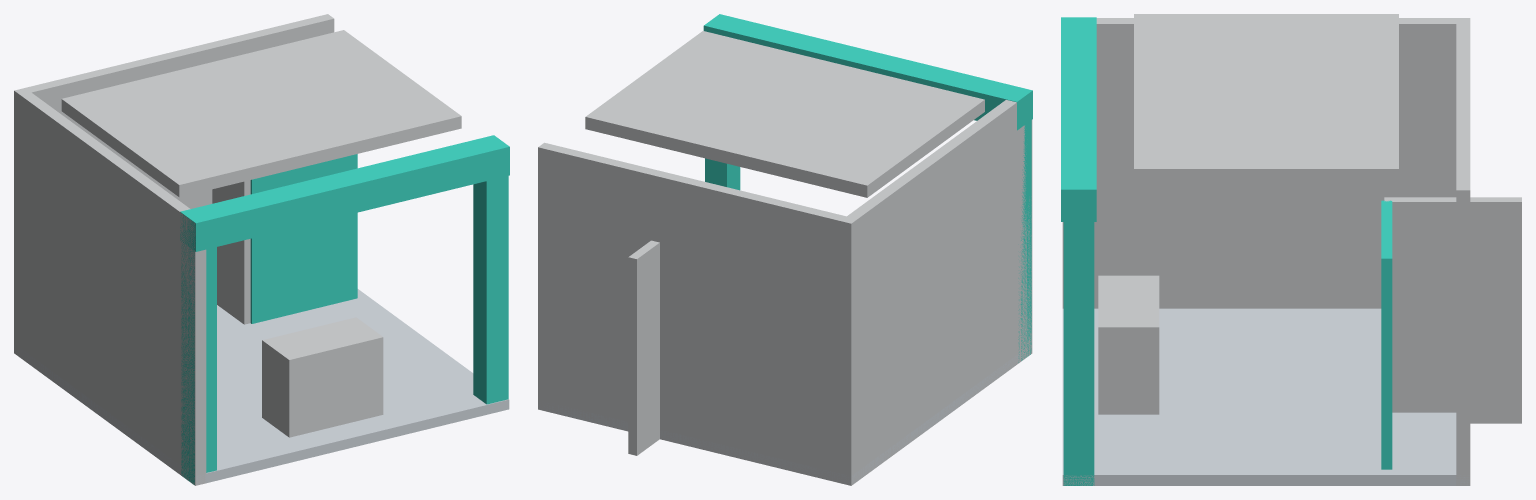
The picture shows the model from 3 angles, left to right: view 1: azimuth 30°, elevation 25°; view 2: azimuth 150°, elevation 25°; view 3: azimuth 270°, elevation 25°; orthographic projection. The views are drawn at different scales.
Visible parts, largest first — view 1: Exhibition Booth Concept; view 2: Exhibition Booth Concept; view 3: Exhibition Booth Concept.
Part boxes in pixels (bbox=[...]): Exhibition Booth Concept: bbox=[14, 14, 509, 485]; Exhibition Booth Concept: bbox=[538, 14, 1032, 485]; Exhibition Booth Concept: bbox=[1061, 14, 1521, 485].
Size of the model in its own units: 4 by 3.34 by 4.52.
